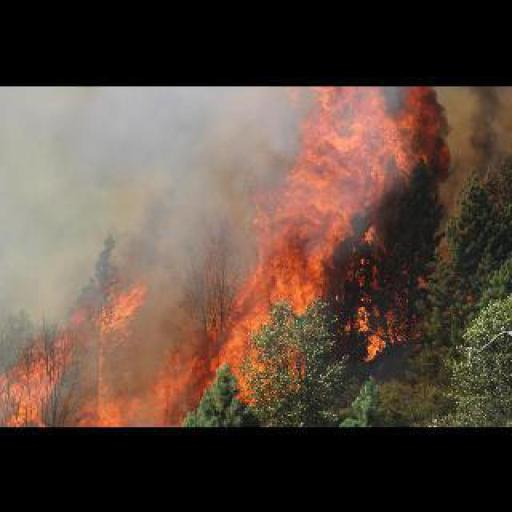smoke: (10, 91, 436, 424)
